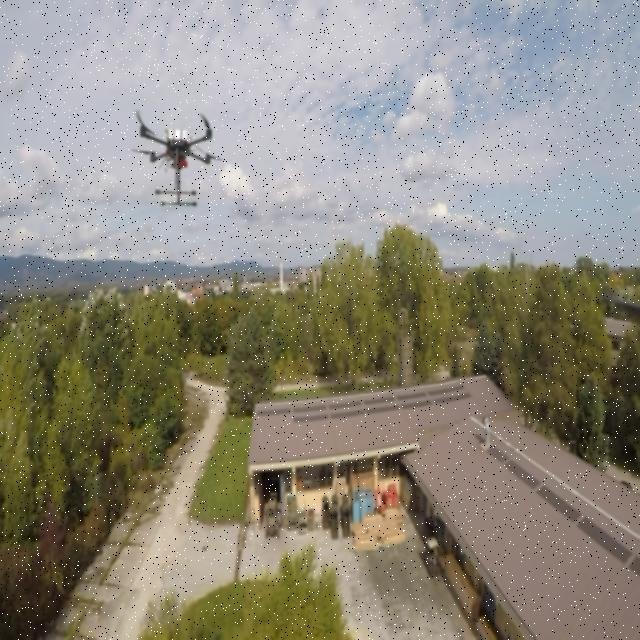UAV: (124, 105, 226, 208)
